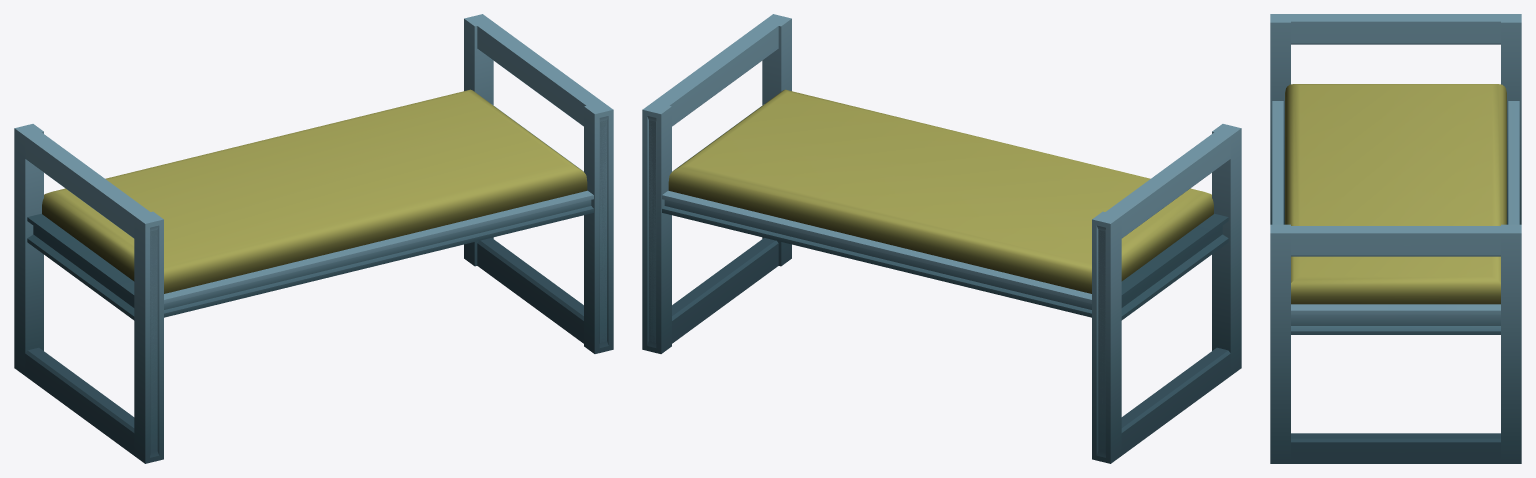
Rendered from SM_Bed_01.fbx.
The picture shows the model from 3 angles, left to right: view 1: azimuth 30°, elevation 25°; view 2: azimuth 150°, elevation 25°; view 3: azimuth 270°, elevation 25°; orthographic projection. The views are drawn at different scales.
Visible parts, largest first — view 1: SM_Bed_01; view 2: SM_Bed_01; view 3: SM_Bed_01.
Part boxes in pixels (<box>): SM_Bed_01: <box>14,14,613,463</box>; SM_Bed_01: <box>642,14,1241,463</box>; SM_Bed_01: <box>1270,14,1521,463</box>.
Size of the model in its own units: 1.94 by 0.9373 by 0.949.
